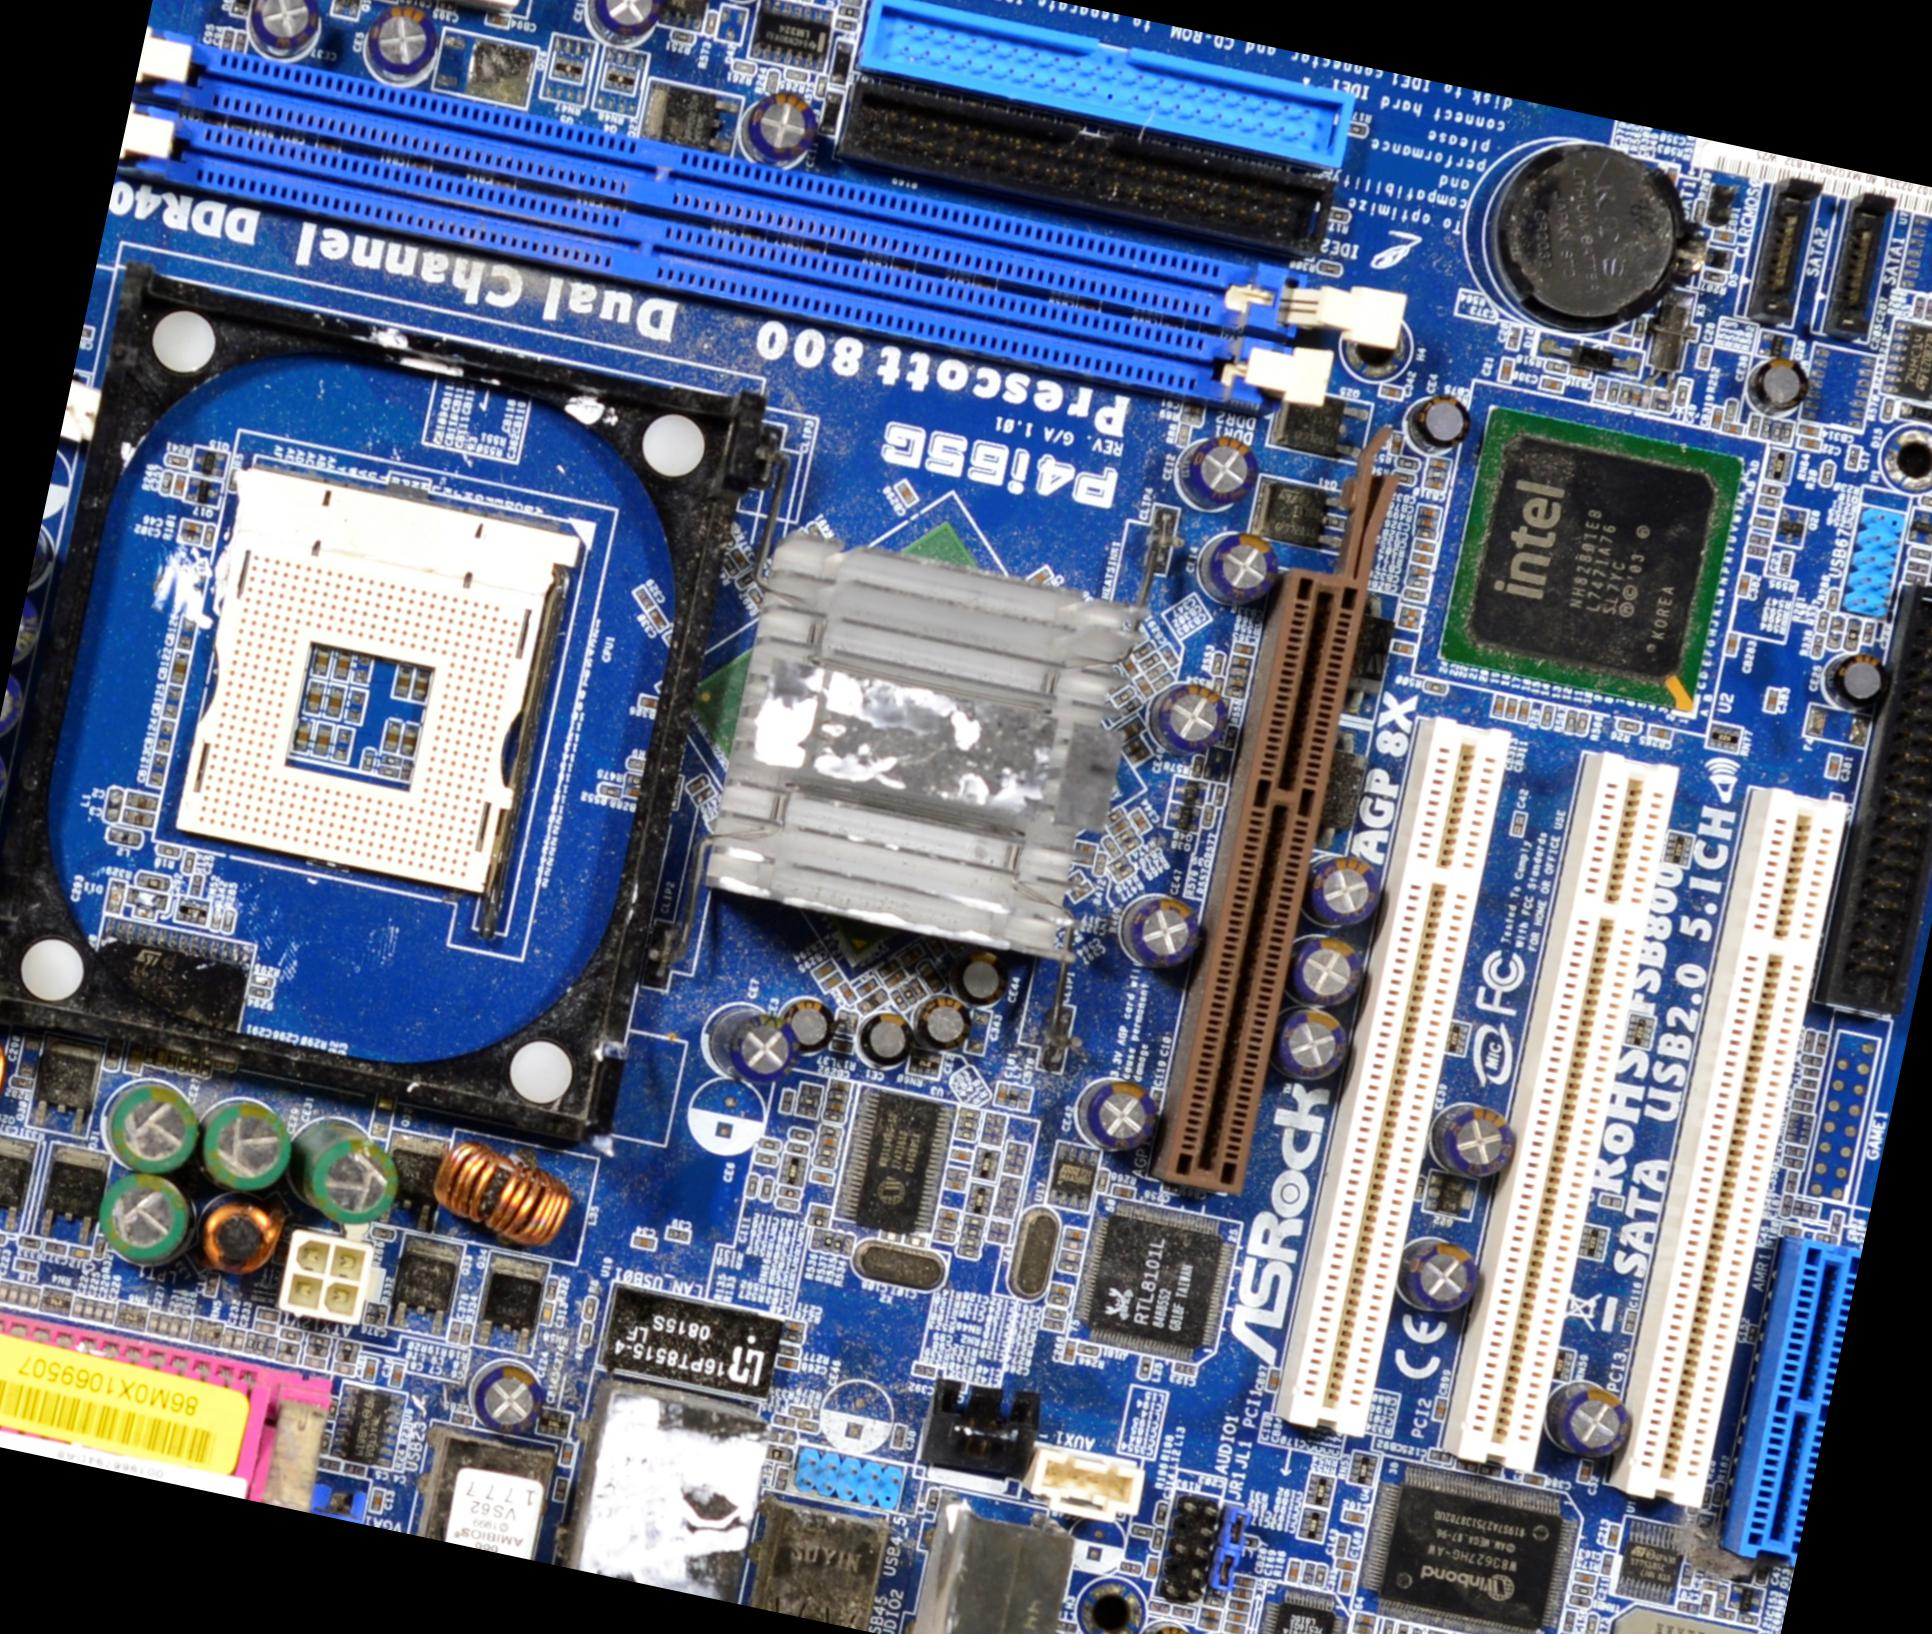Capacitor Jumper: (888, 475, 921, 509), (123, 789, 157, 812), (105, 880, 125, 914), (120, 807, 152, 827), (647, 606, 671, 632), (632, 585, 655, 610), (1595, 1190, 1624, 1208), (1621, 1308, 1639, 1334), (360, 1357, 378, 1383), (1396, 605, 1423, 621), (13, 1256, 37, 1274), (1710, 229, 1736, 245), (1170, 1358, 1196, 1375), (1352, 1611, 1378, 1628), (942, 1175, 964, 1193), (809, 1167, 833, 1183), (1264, 1367, 1280, 1391), (42, 1238, 66, 1255), (220, 1324, 237, 1349), (1410, 550, 1434, 566), (1491, 692, 1507, 716), (1425, 1448, 1451, 1462), (538, 1300, 553, 1326), (1504, 694, 1519, 720), (1515, 699, 1532, 721), (994, 1083, 1008, 1107), (630, 1234, 655, 1248), (177, 1316, 191, 1341), (79, 1297, 94, 1321), (70, 1295, 84, 1320), (1498, 357, 1512, 381), (1540, 376, 1564, 391), (1397, 614, 1421, 629), (1763, 687, 1778, 712), (99, 1303, 115, 1324), (1285, 1561, 1302, 1582), (6, 1281, 19, 1307), (1063, 1227, 1086, 1242), (775, 1355, 797, 1370), (485, 13, 507, 28), (256, 1308, 279, 1323), (167, 1316, 182, 1339), (89, 1300, 104, 1323), (26, 1287, 41, 1310), (559, 1443, 574, 1465), (1379, 384, 1402, 399), (948, 1148, 972, 1161), (232, 1328, 245, 1352), (370, 1488, 383, 1512), (1796, 423, 1820, 436), (1725, 631, 1738, 655), (1827, 754, 1840, 778), (172, 472, 185, 496), (1049, 1284, 1070, 1298), (1405, 575, 1426, 590), (182, 851, 194, 874), (903, 1234, 925, 1247), (68, 1247, 91, 1260), (389, 1363, 402, 1386), (156, 1313, 169, 1336), (1349, 1621, 1374, 1632), (1567, 365, 1590, 378), (1710, 407, 1723, 430), (1648, 726, 1671, 739), (639, 695, 658, 710), (1112, 1185, 1133, 1198), (819, 1136, 840, 1149), (937, 1209, 958, 1222), (1062, 1238, 1083, 1251), (1060, 1248, 1081, 1261), (783, 1320, 804, 1332), (68, 1247, 89, 1260), (1574, 1571, 1595, 1584), (1336, 1558, 1357, 1571), (1302, 1563, 1314, 1584), (1799, 436, 1820, 449), (1721, 421, 1742, 434), (1423, 478, 1444, 491), (1392, 640, 1413, 653), (878, 1230, 901, 1242), (1342, 1511, 1365, 1522), (254, 1323, 277, 1334), (146, 1311, 157, 1334), (18, 1285, 29, 1308), (1408, 566, 1431, 577), (1232, 644, 1255, 655), (1339, 1572, 1352, 1592), (1415, 540, 1434, 553), (182, 520, 201, 533), (1063, 1341, 1075, 1362), (1738, 574, 1749, 595), (1232, 655, 1250, 668), (1606, 1525, 1618, 1545), (0, 1281, 10, 1302), (1405, 590, 1425, 600), (1425, 1628, 1447, 1632), (0, 1232, 8, 1243)
Connector: (117, 23, 1308, 413), (1277, 713, 1514, 1439), (1621, 786, 1846, 1512), (1452, 752, 1679, 1470), (1733, 1237, 1861, 1569)
IC: (1436, 399, 1746, 713), (1352, 1456, 1587, 1632), (1250, 1581, 1355, 1632)
Resistor Jumper: (135, 870, 170, 895), (775, 1183, 802, 1201), (783, 1140, 809, 1157), (702, 10, 718, 36), (788, 1127, 814, 1143), (759, 1175, 775, 1201), (953, 1245, 979, 1261), (1569, 1582, 1595, 1598), (1908, 545, 1930, 562), (961, 1213, 985, 1229), (960, 1225, 984, 1242), (16, 1235, 41, 1251), (1750, 515, 1775, 532), (596, 783, 621, 799), (796, 1094, 822, 1109), (820, 1109, 846, 1123), (1734, 1611, 1760, 1626), (1614, 718, 1640, 733), (1421, 679, 1447, 694), (164, 452, 190, 467), (1692, 198, 1707, 224), (809, 1227, 825, 1250), (209, 905, 224, 929), (220, 908, 235, 932), (951, 1127, 976, 1141), (755, 1136, 780, 1151), (752, 1151, 776, 1166), (1820, 460, 1835, 485), (1412, 525, 1436, 540), (1209, 650, 1224, 674), (201, 524, 216, 548), (1190, 754, 1204, 778), (958, 1106, 979, 1122), (763, 71, 780, 92), (1584, 1611, 1600, 1632), (1327, 206, 1349, 222), (1747, 530, 1768, 546), (827, 1088, 849, 1102), (250, 973, 272, 987), (10, 1076, 32, 1091), (1076, 1342, 1099, 1357), (1199, 804, 1214, 827), (246, 986, 271, 999), (545, 1276, 558, 1300), (583, 1295, 596, 1320), (731, 60, 755, 73), (1702, 269, 1726, 282), (1047, 1294, 1068, 1308), (1880, 399, 1895, 420), (1825, 590, 1840, 611), (157, 843, 180, 856), (1096, 1169, 1109, 1191), (812, 1156, 835, 1169), (744, 1175, 757, 1198), (932, 1229, 955, 1242), (958, 1235, 981, 1248), (820, 1230, 833, 1253), (579, 1323, 592, 1345), (1396, 457, 1418, 470), (1810, 634, 1823, 657), (1574, 712, 1587, 734), (1564, 710, 1577, 733), (836, 5, 859, 18), (835, 18, 857, 31), (956, 1117, 977, 1130), (820, 1123, 841, 1136), (815, 1144, 836, 1157), (673, 31, 694, 44), (830, 1232, 843, 1253), (784, 68, 806, 81), (788, 1405, 809, 1418), (1318, 261, 1339, 274), (1545, 360, 1566, 373), (1760, 483, 1781, 496), (159, 472, 172, 493), (1379, 1618, 1397, 1632), (1746, 545, 1768, 556), (781, 1331, 801, 1344), (459, 1324, 472, 1344), (797, 1418, 817, 1431), (1817, 610, 1830, 629), (1347, 122, 1366, 135), (935, 1217, 956, 1229), (1057, 1261, 1078, 1273), (1313, 1564, 1324, 1585), (1757, 494, 1778, 506), (1392, 472, 1413, 483), (1541, 705, 1553, 726), (780, 1345, 799, 1357), (1396, 1621, 1412, 1632), (1407, 1626, 1426, 1632), (840, 0, 862, 5)
Transistor: (468, 1251, 549, 1355), (31, 1141, 110, 1247), (384, 1234, 462, 1336), (0, 1128, 41, 1234), (190, 446, 229, 478), (185, 475, 222, 506)
